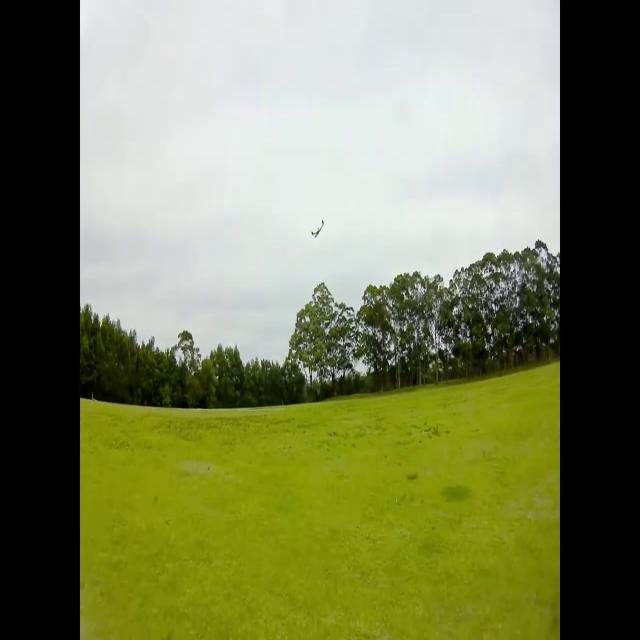iha: (315, 220, 321, 238)
